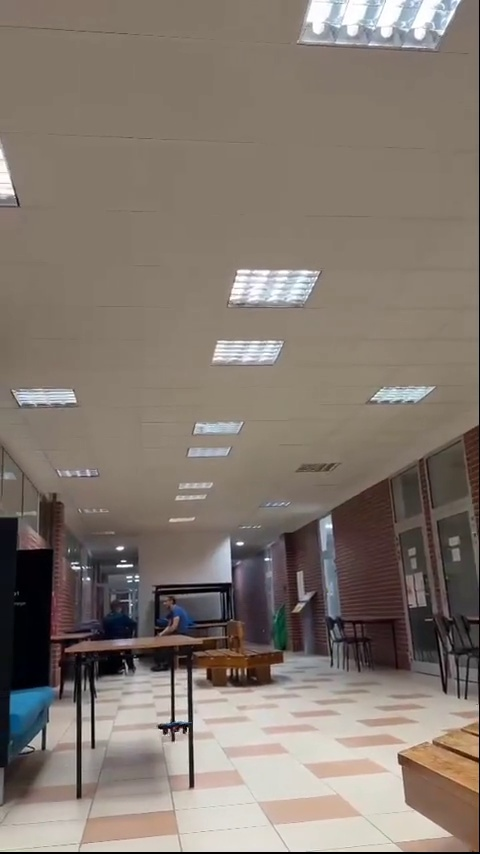drone: (157, 721, 192, 742)
no vest: (154, 593, 195, 636), (100, 599, 136, 640)
